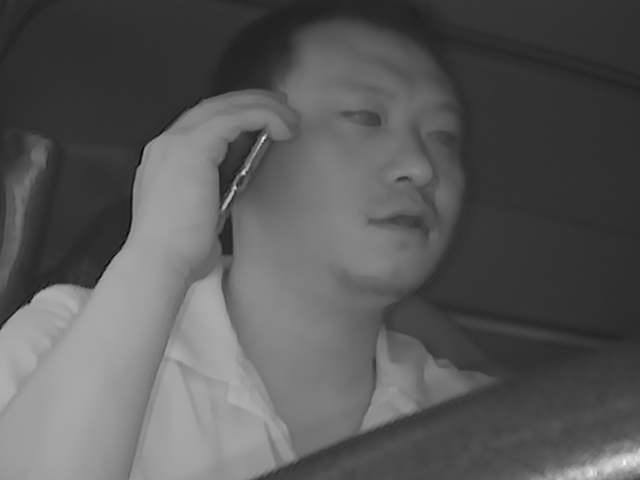hand: (128, 91, 244, 267)
